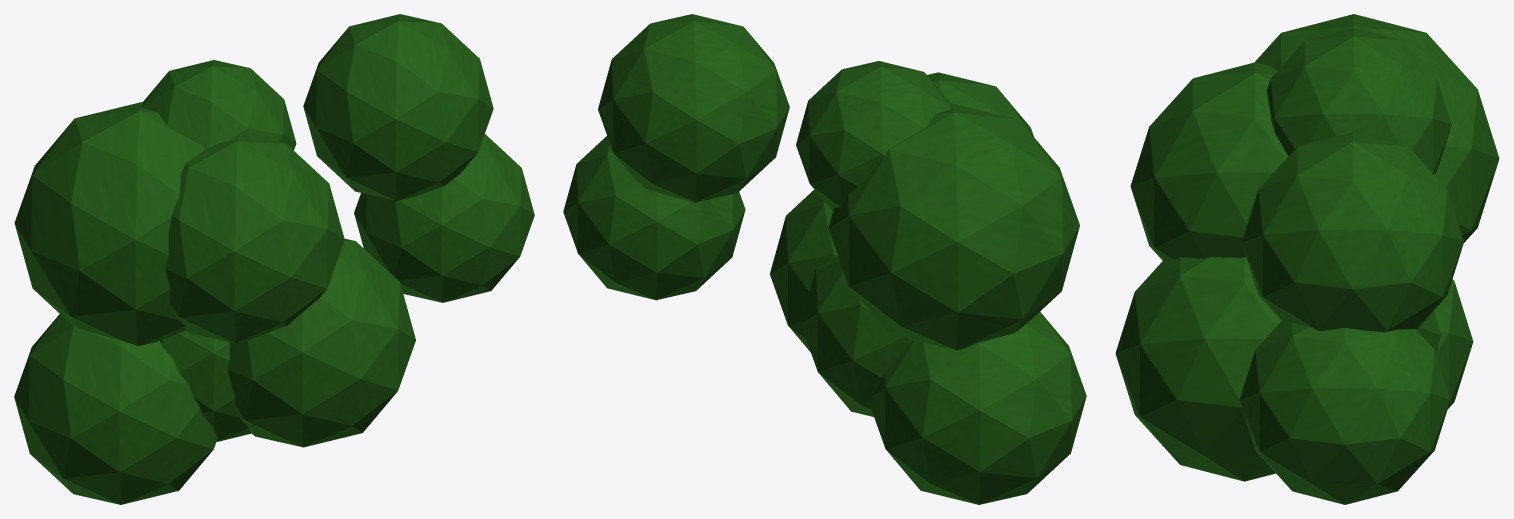
File: krzak_r0_03.glb
3 views of the same model, side by side, from view 1: azimuth 30°, elevation 25°; view 2: azimuth 150°, elevation 25°; view 3: azimuth 270°, elevation 25° (orthographic). The views are drawn at different scales.
Visible parts, largest first — view 1: leaf_2, leaf_7, leaf_5, leaf_4, leaf_0, leaf_6, leaf_1, leaf_3; view 2: leaf_2, leaf_4, leaf_5, leaf_6, leaf_1, leaf_3, leaf_0, leaf_7; view 3: leaf_5, leaf_6, leaf_0, leaf_7, leaf_1, leaf_2, leaf_4, leaf_3.
Boxes of the visible parts, x1,y1,x2,y2 form: leaf_2: (14,102,204,345); leaf_7: (165,139,344,343); leaf_5: (303,14,493,200); leaf_4: (14,314,217,504); leaf_0: (227,238,415,447); leaf_6: (354,134,534,302); leaf_1: (142,60,296,150); leaf_3: (160,330,251,441); leaf_2: (828,103,1079,350); leaf_4: (870,312,1086,504); leaf_5: (598,14,789,202); leaf_6: (563,136,745,300); leaf_1: (796,61,951,211); leaf_3: (801,255,912,416); leaf_0: (770,189,837,352); leaf_7: (927,72,1033,136); leaf_5: (1242,132,1463,332); leaf_6: (1239,321,1450,504); leaf_0: (1115,257,1280,481); leaf_7: (1130,62,1288,260); leaf_1: (1267,28,1451,174); leaf_2: (1255,14,1499,242); leaf_4: (1433,279,1473,408); leaf_3: (1416,311,1441,352).
Size of the model in its own units: 2.2 by 1.73 by 1.27.
1 material, 1 textured.
